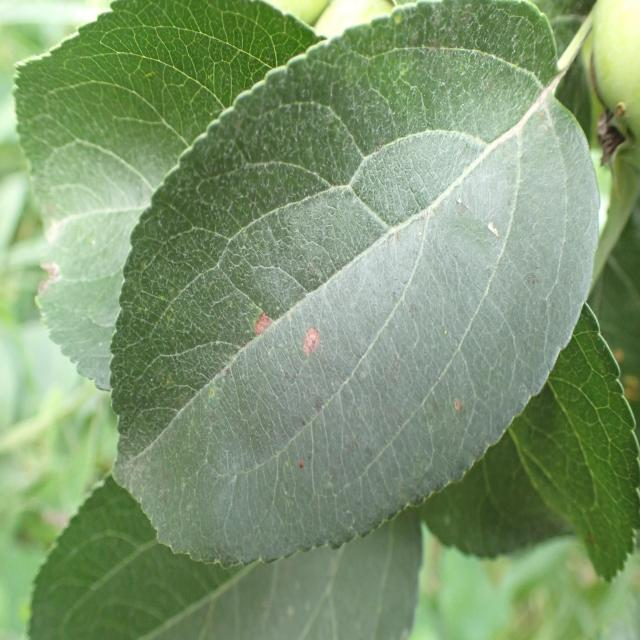frog-eye-leaf-spot: (106, 1, 640, 573)
